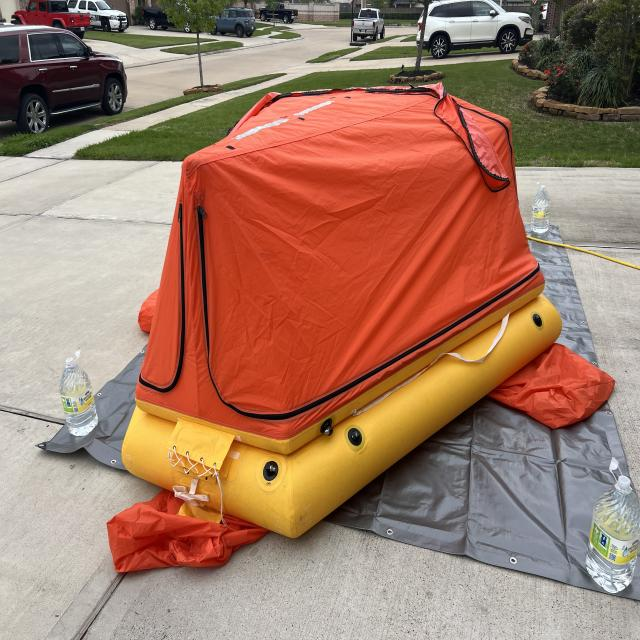Multi-person_life_raft: (105, 82, 614, 574)
